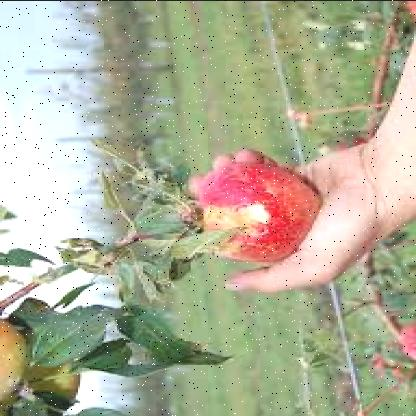damaged_apple: (188, 155, 320, 269)
